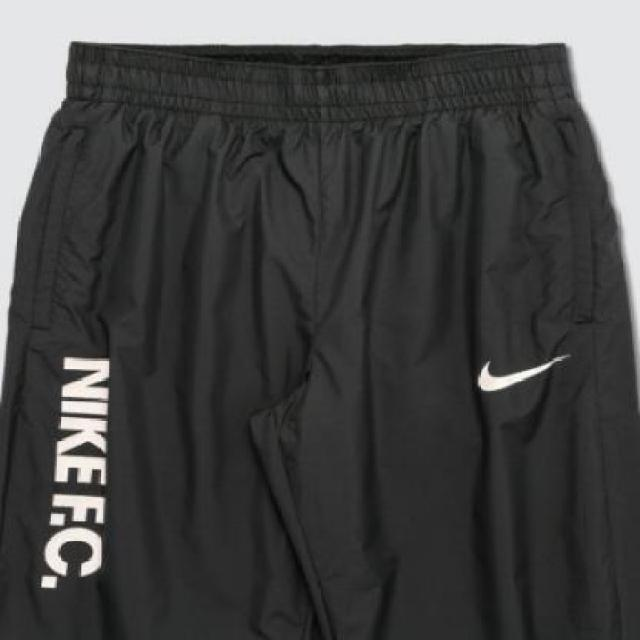Nike: (476, 352, 578, 390)
